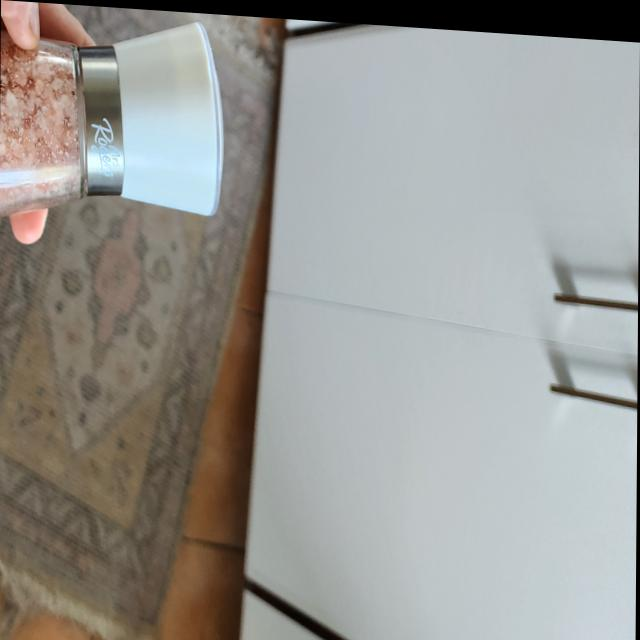salt: (0, 11, 226, 243)
